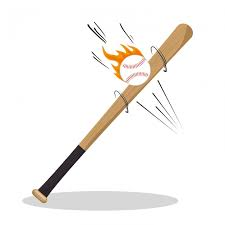baseball bat: (31, 22, 194, 204)
